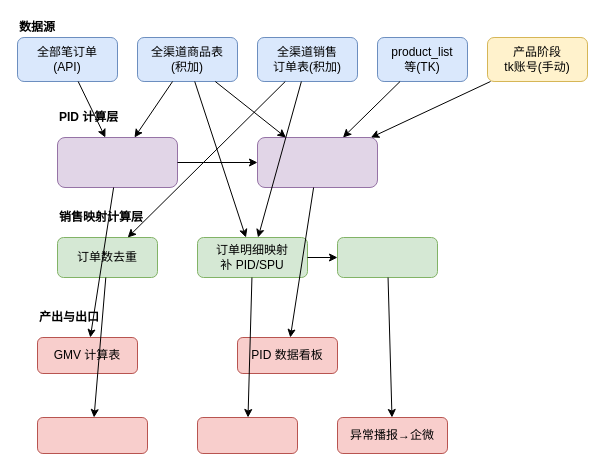
Image size: 605x471. Some labels were removed from this diagram. Here are the shapes that lost their labels. From the top down, the box of each, then its label:
(56, 136, 178, 188): GMV 计算 (映射+汇总)
(256, 136, 378, 188): 数据看板 (关联+计算)
(336, 236, 438, 278): 近两天差异 AI 异常
(36, 416, 148, 454): 订单数播报→企微
(196, 416, 298, 454): 销量趋势数据 与界面
